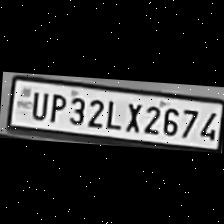2: (84, 94, 104, 128), (140, 101, 160, 134)
3: (65, 92, 85, 124)
4: (196, 106, 218, 138)
6: (159, 104, 180, 136)
7: (178, 106, 197, 138)
L: (102, 96, 122, 130)
P: (46, 90, 66, 122)
U: (26, 87, 48, 120)
X: (121, 98, 143, 132)
